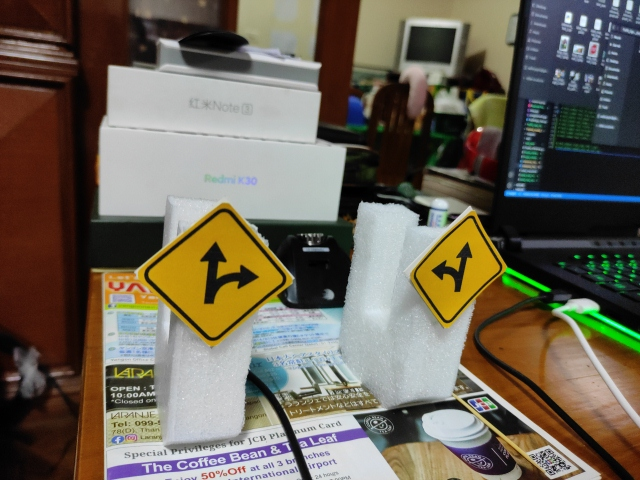Straight Or Left Sign: (411, 214, 504, 326)
Straight Or Right Sign: (139, 206, 291, 344)
